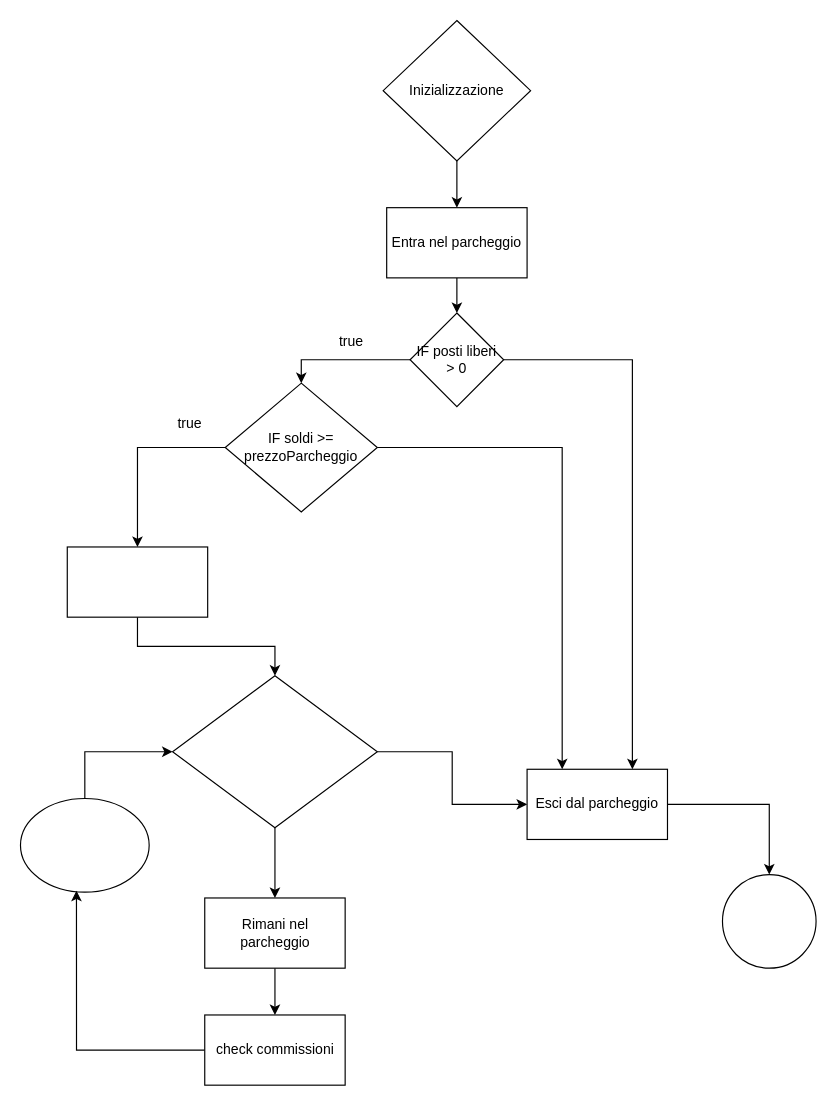
This 837x1106 diagram has some shape labels left out. Here are the shapes that lost their labels. From the top down, the centre of each, then its label:
(137,581): Paga il parcheggio e parcheggia
(274,751): While faiCommissioni == true
(84,844): return to check faiCommissioni
(768,920): Fine
